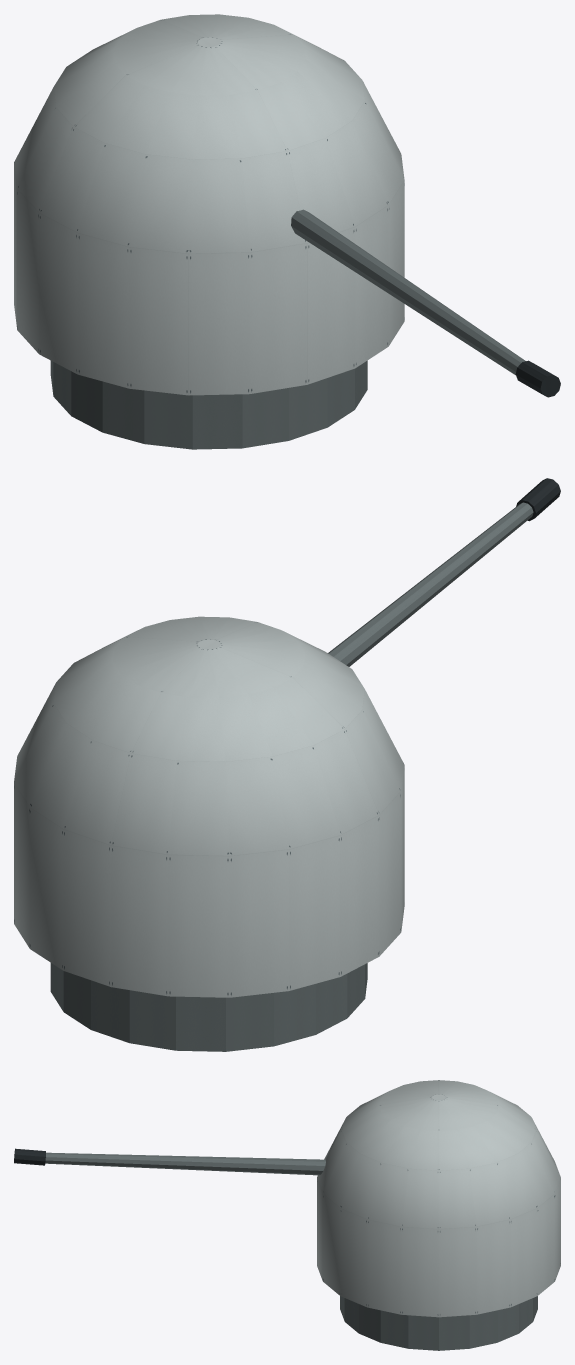
The model's file is mount_gepard_artillery.glb.
The picture shows the model from 3 angles, top to bottom: view 1: azimuth 30°, elevation 25°; view 2: azimuth 150°, elevation 25°; view 3: azimuth 270°, elevation 25°; orthographic projection. The views are drawn at different scales.
Visible parts, largest first — view 1: MESH_GEPARD_TEMPLATE_artillery.004; view 2: MESH_GEPARD_TEMPLATE_artillery.004; view 3: MESH_GEPARD_TEMPLATE_artillery.004.
Part boxes in pixels (bbox=[...]): MESH_GEPARD_TEMPLATE_artillery.004: bbox=[14, 14, 560, 449]; MESH_GEPARD_TEMPLATE_artillery.004: bbox=[14, 478, 560, 1051]; MESH_GEPARD_TEMPLATE_artillery.004: bbox=[14, 1080, 560, 1350].
Bounding box in the file's own units: 4.79 × 4.58 × 10.74.
1 material, 1 textured.
